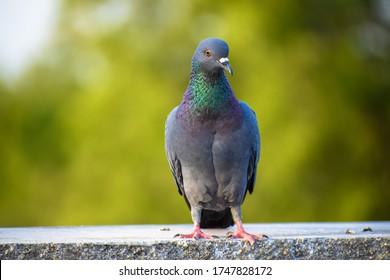Flying Rat: (167, 36, 268, 246)
